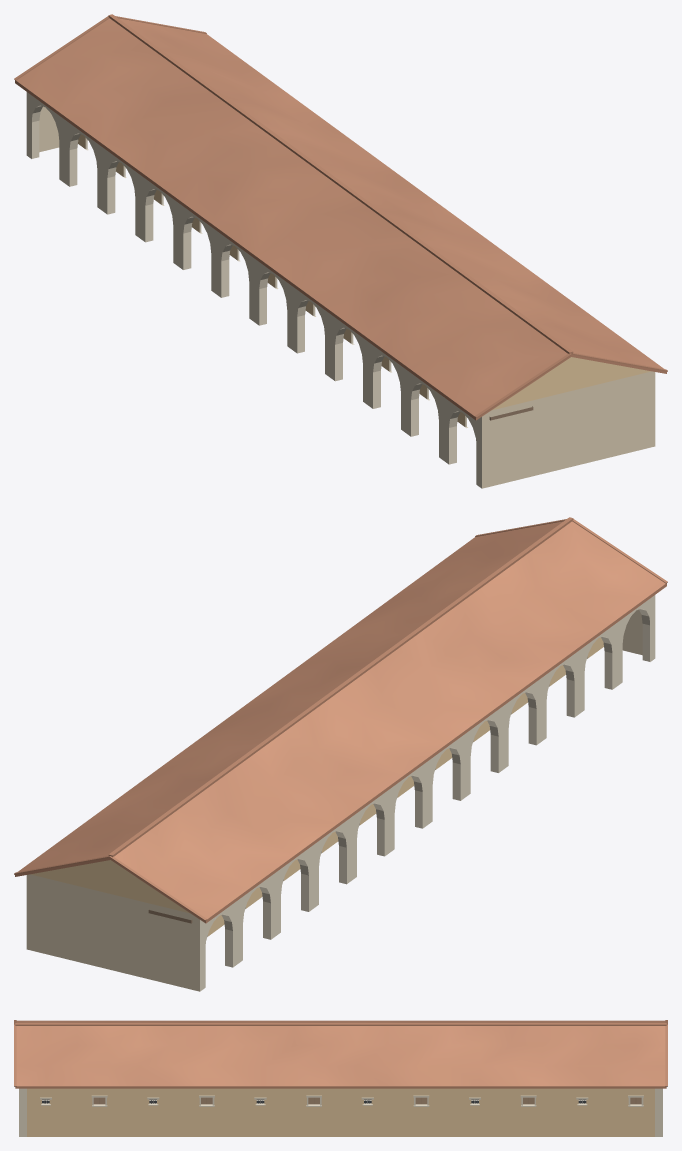
The model's file is SM_BM_BE_5_Stables.glb.
3 views of the same model, one above another, from view 1: azimuth 30°, elevation 25°; view 2: azimuth 150°, elevation 25°; view 3: azimuth 270°, elevation 25° (orthographic). The views are drawn at different scales.
Parts seen in each view (by area): view 1: SM_BM_BE_5_Stables; view 2: SM_BM_BE_5_Stables; view 3: SM_BM_BE_5_Stables.
Part boxes in pixels (<box>): SM_BM_BE_5_Stables: <box>14,14,667,488</box>; SM_BM_BE_5_Stables: <box>14,517,667,991</box>; SM_BM_BE_5_Stables: <box>14,1020,667,1136</box>.
Size of the model in its own units: 12.13 by 7.12 by 50.8.
